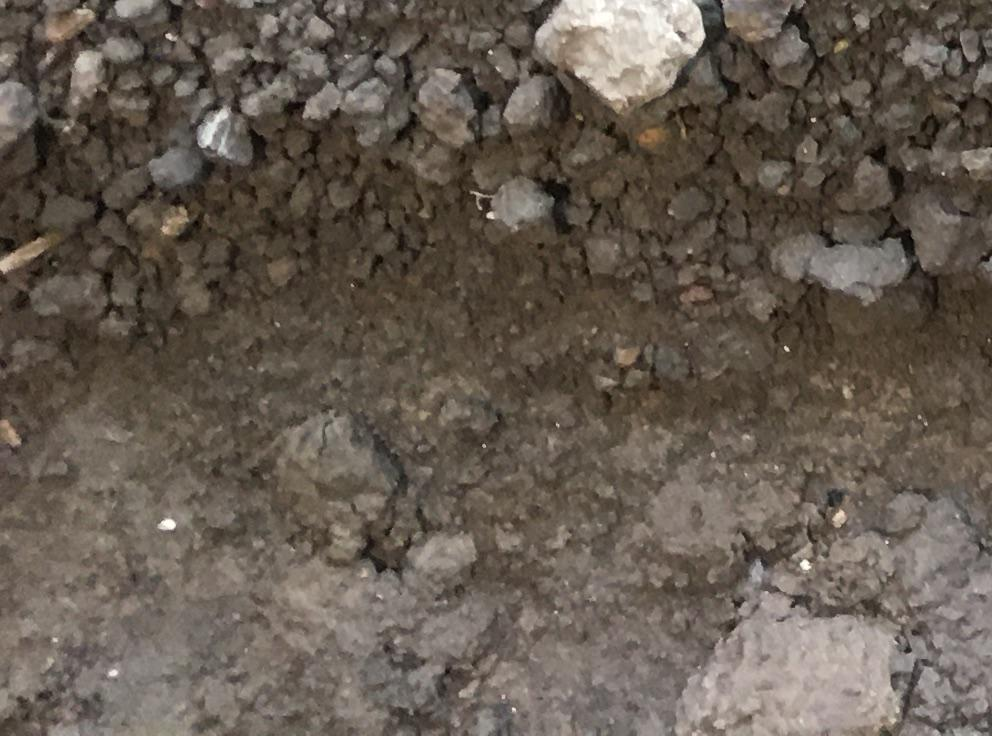block: (668, 609, 916, 736), (531, 1, 705, 112)
